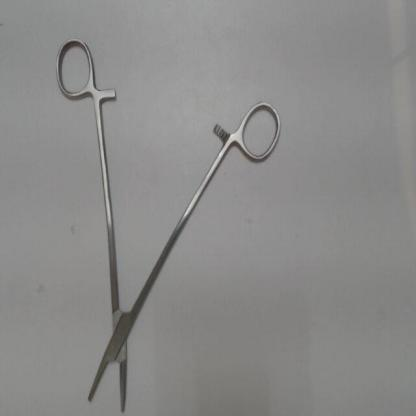8 Mayo Needle Holder: (49, 30, 292, 415)
